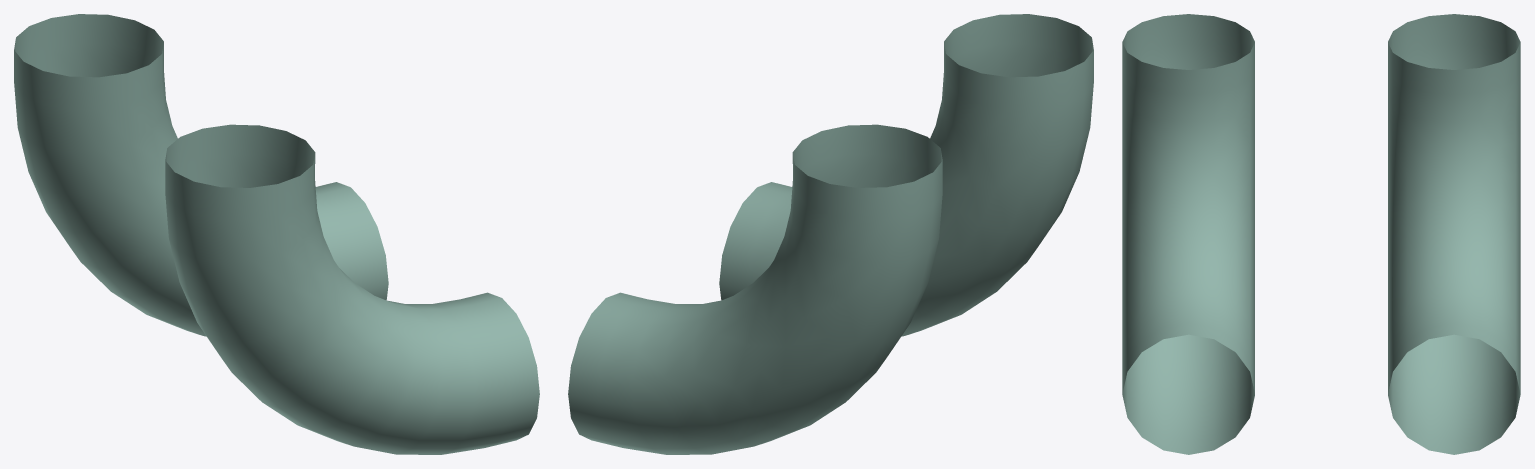
The model's file is PipeComplexLarge_A2_06.fbx.
The picture shows the model from 3 angles, left to right: view 1: azimuth 30°, elevation 25°; view 2: azimuth 150°, elevation 25°; view 3: azimuth 270°, elevation 25°; orthographic projection. The views are drawn at different scales.
Parts seen in each view (by area): view 1: PipeComplexLarge_A2_06.001; view 2: PipeComplexLarge_A2_06.001; view 3: PipeComplexLarge_A2_06.001.
Part boxes in pixels (<box>): PipeComplexLarge_A2_06.001: <box>14,14,539,454</box>; PipeComplexLarge_A2_06.001: <box>568,14,1093,454</box>; PipeComplexLarge_A2_06.001: <box>1122,14,1520,454</box>.
Size of the model in its own units: 0.5 by 0.5 by 0.6.
